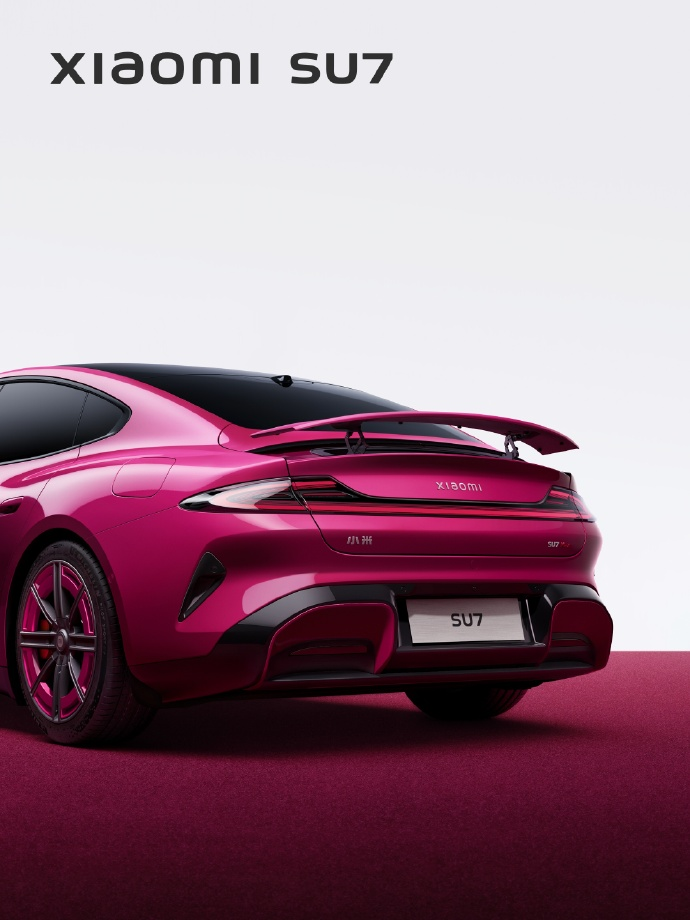su7: (0, 361, 613, 750)
